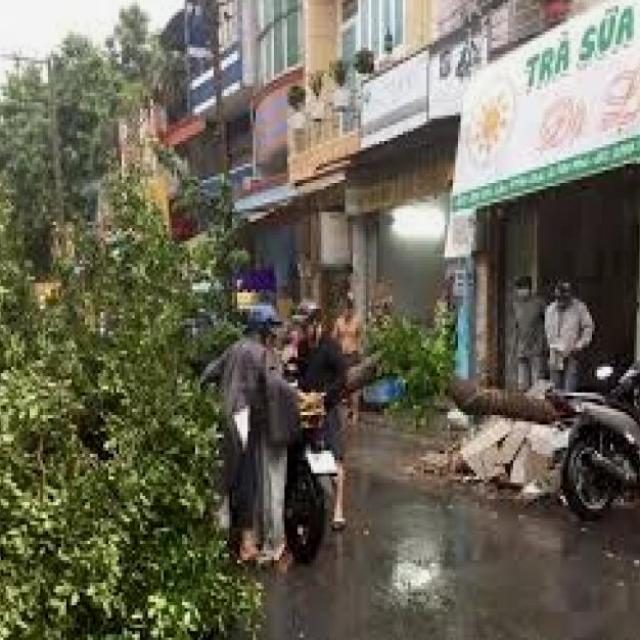fallen_object: (14, 187, 640, 531)
